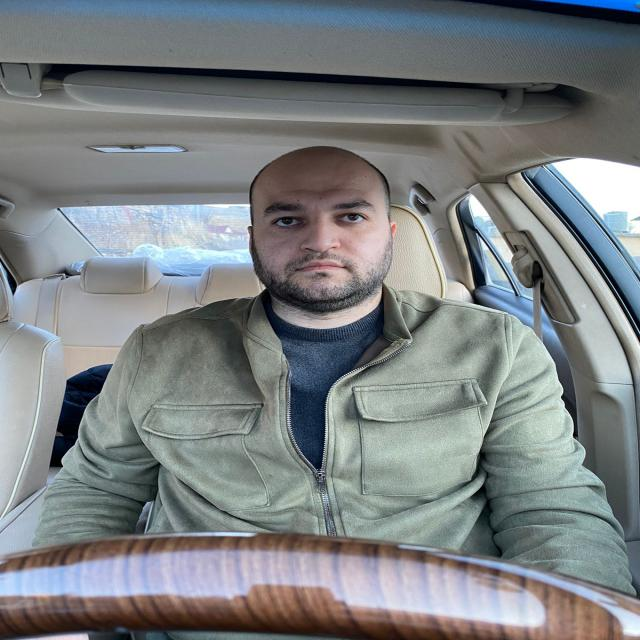person: (236, 155, 398, 303)
